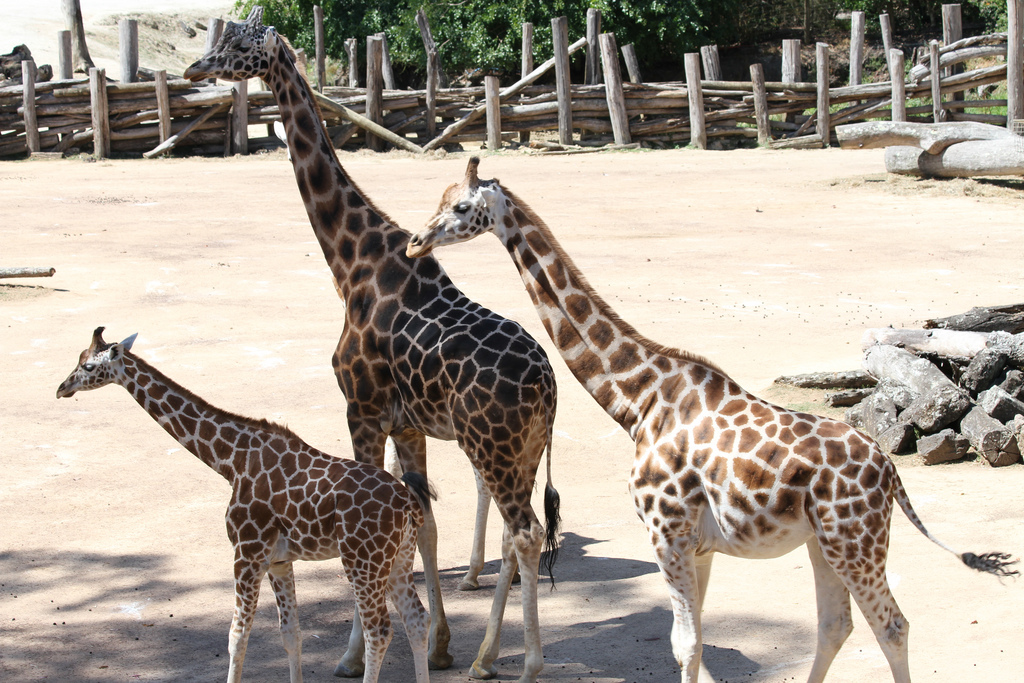giraffe: (402, 144, 934, 658), (181, 7, 571, 618), (37, 318, 414, 671)
